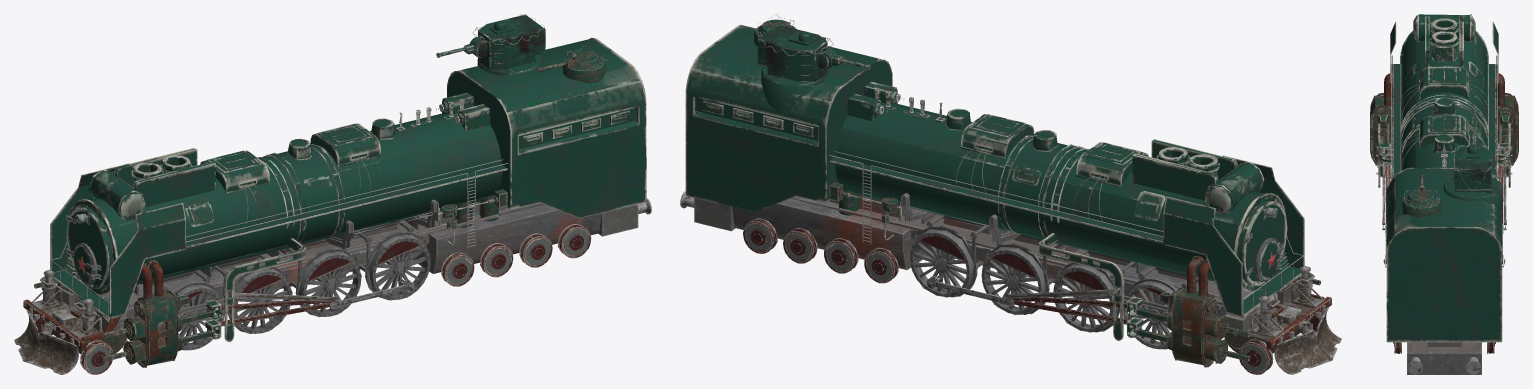
Rendered from SM_SovietLocomotive.glb.
3 views of the same model, side by side, from view 1: azimuth 30°, elevation 25°; view 2: azimuth 150°, elevation 25°; view 3: azimuth 270°, elevation 25° (orthographic). The views are drawn at different scales.
Parts seen in each view (by area): view 1: SM_SovietLocomotive; view 2: SM_SovietLocomotive; view 3: SM_SovietLocomotive.
Part boxes in pixels (left/top/right/bottom): SM_SovietLocomotive: left=14, top=14, right=651, bottom=374; SM_SovietLocomotive: left=680, top=14, right=1341, bottom=374; SM_SovietLocomotive: left=1370, top=14, right=1518, bottom=374.
Bounding box in the file's own units: 8.99 × 3.01 × 2.11.
31 materials, 27 textured.
